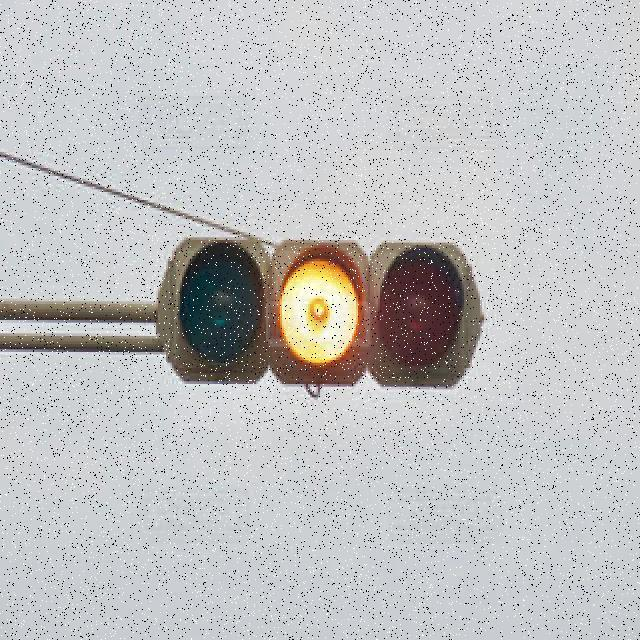yellow_light: (275, 216, 369, 387)
